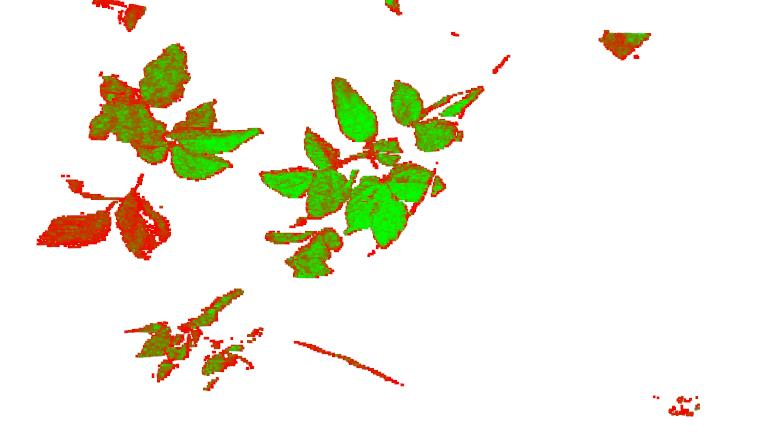mungbean: (28, 41, 262, 261), (259, 80, 484, 280), (122, 225, 341, 393)
